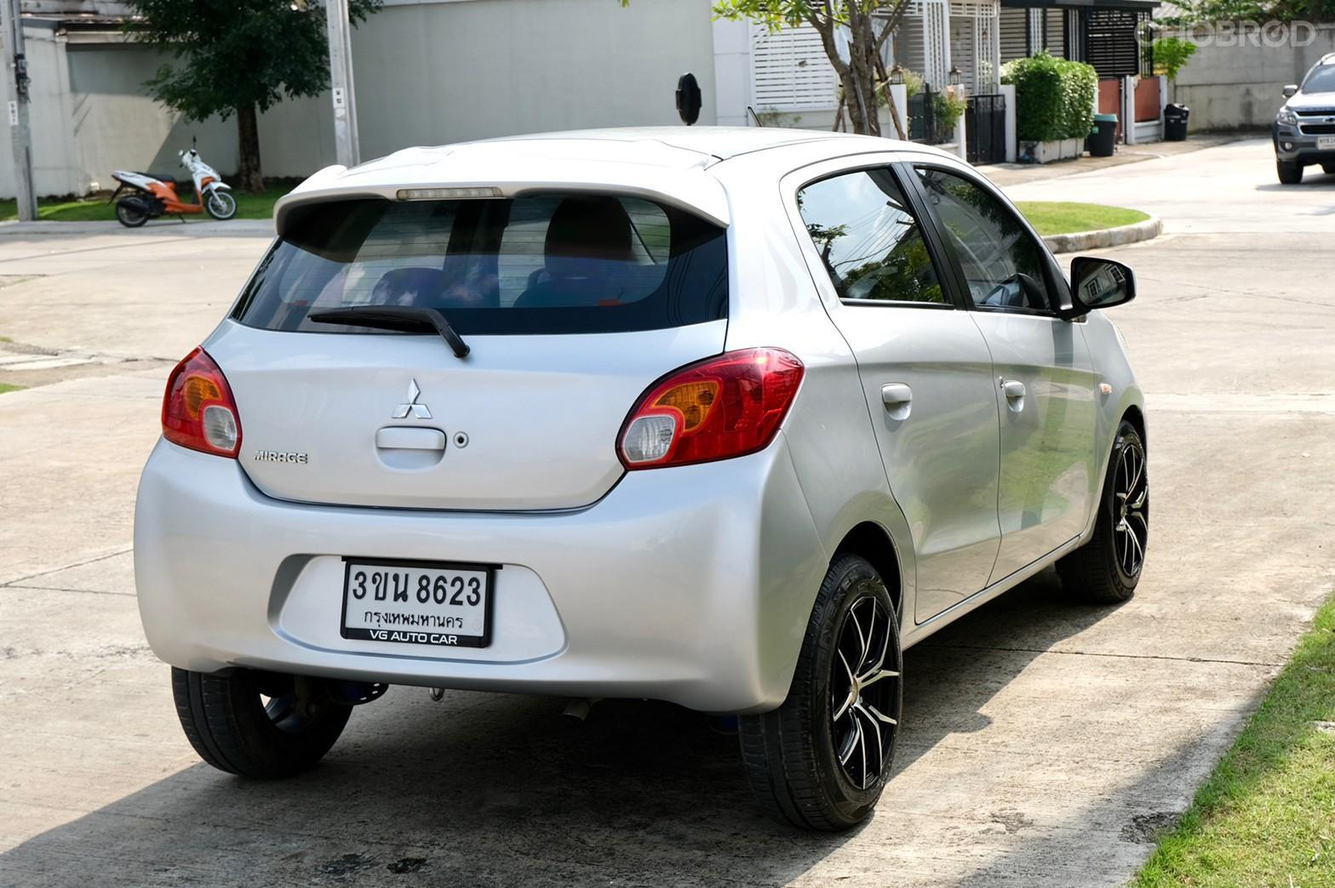license-plate: (339, 555, 497, 647)
